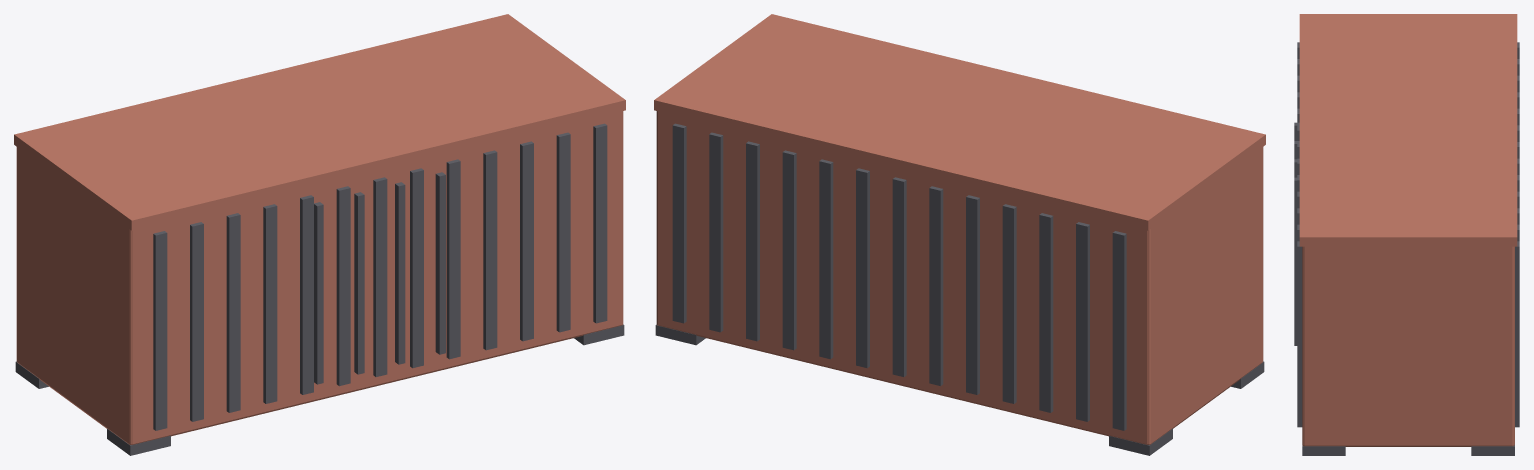
File: bt-hw-cont-r.glb
3 renders of one model, left to right at view 1: azimuth 30°, elevation 25°; view 2: azimuth 150°, elevation 25°; view 3: azimuth 270°, elevation 25°, orthographic. The views are drawn at different scales.
Visible parts, largest first — view 1: bt-hw-cont-r_body, bt-hw-cont-r_toprail, bt-hw-cont-r_rib6_1, bt-hw-cont-r_rib5_1, bt-hw-cont-r_rib12_1, bt-hw-cont-r_rib3_1, bt-hw-cont-r_rib11_1, bt-hw-cont-r_rib0_1, bt-hw-cont-r_rib8_1, bt-hw-cont-r_rib9_1, bt-hw-cont-r_rib2_1, bt-hw-cont-r_rib4_1 (+8 smaller); view 2: bt-hw-cont-r_body, bt-hw-cont-r_toprail, bt-hw-cont-r_rib6_-1, bt-hw-cont-r_rib5_-1, bt-hw-cont-r_rib12_-1, bt-hw-cont-r_rib3_-1, bt-hw-cont-r_rib11_-1, bt-hw-cont-r_rib0_-1, bt-hw-cont-r_rib8_-1, bt-hw-cont-r_rib9_-1, bt-hw-cont-r_rib2_-1, bt-hw-cont-r_rib4_-1 (+4 smaller); view 3: bt-hw-cont-r_toprail, bt-hw-cont-r_body, bt-hw-cont-r_rib12_1, bt-hw-cont-r_rib12_-1, bt-hw-cont-r_dbar0.75, bt-hw-cont-r_foot1_-1, bt-hw-cont-r_foot1_1.
Boxes of the visible parts, x1,y1,x2,y2 form: bt-hw-cont-r_body: (16,111,623,444); bt-hw-cont-r_toprail: (14,14,625,230); bt-hw-cont-r_rib6_1: (373,177,387,376); bt-hw-cont-r_rib5_1: (336,186,350,386); bt-hw-cont-r_rib12_1: (593,123,607,323); bt-hw-cont-r_rib3_1: (263,204,277,403); bt-hw-cont-r_rib11_1: (556,132,570,332); bt-hw-cont-r_rib0_1: (153,231,167,430); bt-hw-cont-r_rib8_1: (446,159,460,359); bt-hw-cont-r_rib9_1: (483,150,497,350); bt-hw-cont-r_rib2_1: (226,213,240,412); bt-hw-cont-r_rib4_1: (300,195,313,394); bt-hw-cont-r_body: (656,111,1263,444); bt-hw-cont-r_toprail: (654,14,1265,230); bt-hw-cont-r_rib6_-1: (892,177,906,376); bt-hw-cont-r_rib5_-1: (929,186,943,386); bt-hw-cont-r_rib12_-1: (672,123,686,323); bt-hw-cont-r_rib3_-1: (1002,204,1016,403); bt-hw-cont-r_rib11_-1: (709,132,723,332); bt-hw-cont-r_rib0_-1: (1112,231,1126,430); bt-hw-cont-r_rib8_-1: (819,159,833,359); bt-hw-cont-r_rib9_-1: (782,150,796,350); bt-hw-cont-r_rib2_-1: (1039,213,1053,412); bt-hw-cont-r_rib4_-1: (966,195,979,394); bt-hw-cont-r_toprail: (1299,14,1517,246); bt-hw-cont-r_body: (1302,246,1514,446); bt-hw-cont-r_rib12_1: (1297,241,1302,427); bt-hw-cont-r_rib12_-1: (1515,241,1519,427); bt-hw-cont-r_dbar0.75: (1294,177,1297,345); bt-hw-cont-r_foot1_-1: (1471,445,1514,455); bt-hw-cont-r_foot1_1: (1302,445,1345,455).
Size of the model in its own units: 6.06 by 2.77 by 2.58.
